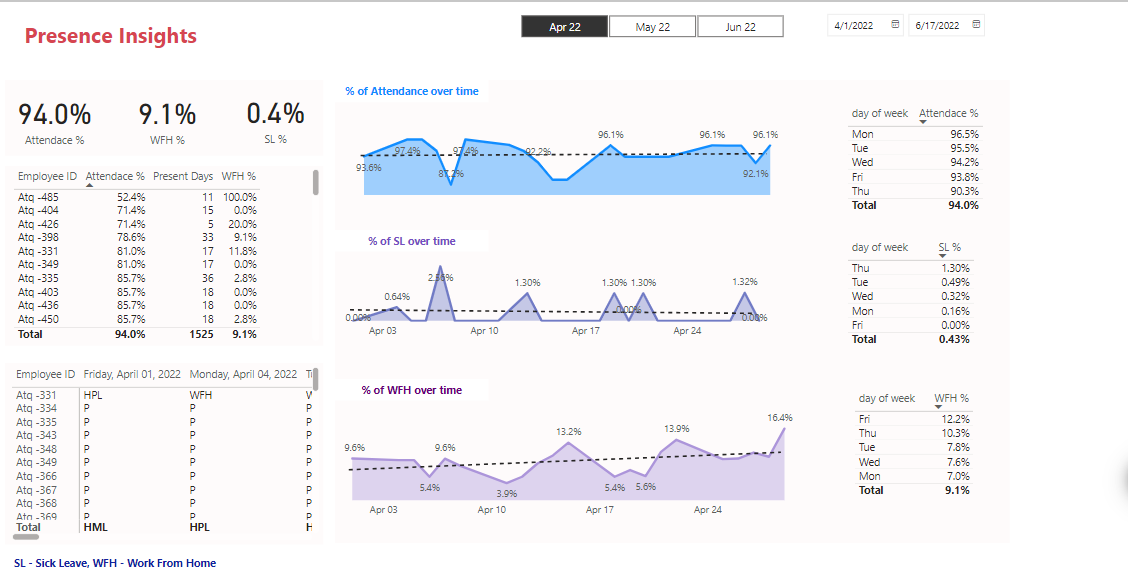

Layout of this report page (visuals, bound fields, positions):
{"tool":"powerbi","page":{"name":"Presence Insights","canvas":[1280,720],"ordinal":0},"visuals":[{"type":"textbox","box":[7.8,205.6,399.9,225.5],"z":0},{"type":"textbox","box":[7.8,453.3,399.8,227.6],"z":1000},{"type":"textbox","box":[422.3,97.9,848.1,582.3],"z":2000},{"type":"textbox","box":[7.8,98,399.9,95.4],"z":3000},{"type":"tableEx","fields":{"Values":["Final Data.Employee ID","Measures (2).Attendace %","Measures (2).Present Days","Measures (2).WFH %"]},"box":[12.6,205.2,394.9,225.7],"z":4000},{"type":"slicer","fields":{"Values":["Final Data.Date"]},"box":[1027.3,5.2,252.7,46.3],"z":5000},{"type":"slicer","fields":{"Values":["Final Data.MMM YY"]},"box":[630.4,10.5,379.5,35.8],"z":6000},{"type":"areaChart","fields":{"Category":["Final Data.MMM YY","Final Data.Date"],"Y":["Measures (2).WFH %"]},"box":[420.7,502.3,589,153.5],"z":7000},{"type":"areaChart","fields":{"Category":["Final Data.WeekNo","Final Data.Date"],"Y":["Measures (2).Attendace %"]},"box":[444.1,144.9,540.4,103.2],"z":8000},{"type":"card","fields":{"Values":["Measures (2).Attendace %"]},"box":[7.8,98,124,96.3],"z":9000},{"type":"card","fields":{"Values":["Measures (2).WFH %"]},"box":[141.4,98,138.8,96.3],"z":10000},{"type":"areaChart","fields":{"Category":["Final Data.MMM YY","Final Data.Date"],"Y":["Measures (2).SL %"]},"box":[422.5,307.1,556,124],"z":11000},{"type":"card","fields":{"Values":["Measures (2).SL %"]},"box":[286.3,97.2,121.4,96.3],"z":13000},{"type":"textbox","box":[0,0,280.8,71.6],"z":14000},{"type":"textbox","box":[422.4,98.2,192.5,27.5],"z":15000},{"type":"textbox","box":[422.5,286.3,192.6,26.9],"z":16000},{"type":"textbox","box":[422.1,473.7,192.6,27.2],"z":17000},{"type":"pivotTable","fields":{"Rows":["Final Data.Employee ID"],"Columns":["Final Data.Date"],"Values":["Min(Final Data.Value)"]},"box":[11.7,453.3,395.9,227.6],"z":18000},{"type":"textbox","box":[13.6,691.6,289.8,28.2],"z":19000},{"type":"tableEx","fields":{"Values":["Final Data.day of week","Measures (2).Attendace %"]},"box":[1060.9,125.8,209.9,145.7],"z":20000},{"type":"tableEx","fields":{"Values":["Final Data.day of week","Measures (2).SL %"]},"box":[1060.9,294.1,191.7,167.4],"z":21000},{"type":"tableEx","fields":{"Values":["Final Data.day of week","Measures (2).WFH %"]},"box":[1068.7,483.2,170,167.4],"z":22000}]}

Visuals, with their boxes on the page's 1280x720 design canvas (x1, y1, x2, y2). These are canvas units, not pixel positions in the 1128x570 screenshot, which may show the page scaled, cropped or inside an application window:
textbox: crop(8, 206, 408, 431)
textbox: crop(8, 453, 408, 681)
textbox: crop(422, 98, 1270, 680)
textbox: crop(8, 98, 408, 193)
tableEx - Final Data.Employee ID x Measures (2).Attendace %: crop(13, 205, 408, 431)
slicer - Final Data.Date: crop(1027, 5, 1280, 52)
slicer - Final Data.MMM YY: crop(630, 10, 1010, 46)
areaChart - Final Data.MMM YY x Final Data.Date: crop(421, 502, 1010, 656)
areaChart - Final Data.WeekNo x Final Data.Date: crop(444, 145, 984, 248)
card - Measures (2).Attendace %: crop(8, 98, 132, 194)
card - Measures (2).WFH %: crop(141, 98, 280, 194)
areaChart - Final Data.MMM YY x Final Data.Date: crop(422, 307, 978, 431)
card - Measures (2).SL %: crop(286, 97, 408, 194)
textbox: crop(0, 0, 281, 72)
textbox: crop(422, 98, 615, 126)
textbox: crop(422, 286, 615, 313)
textbox: crop(422, 474, 615, 501)
pivotTable - Final Data.Employee ID x Final Data.Date: crop(12, 453, 408, 681)
textbox: crop(14, 692, 303, 720)
tableEx - Final Data.day of week x Measures (2).Attendace %: crop(1061, 126, 1271, 272)
tableEx - Final Data.day of week x Measures (2).SL %: crop(1061, 294, 1253, 462)
tableEx - Final Data.day of week x Measures (2).WFH %: crop(1069, 483, 1239, 651)
